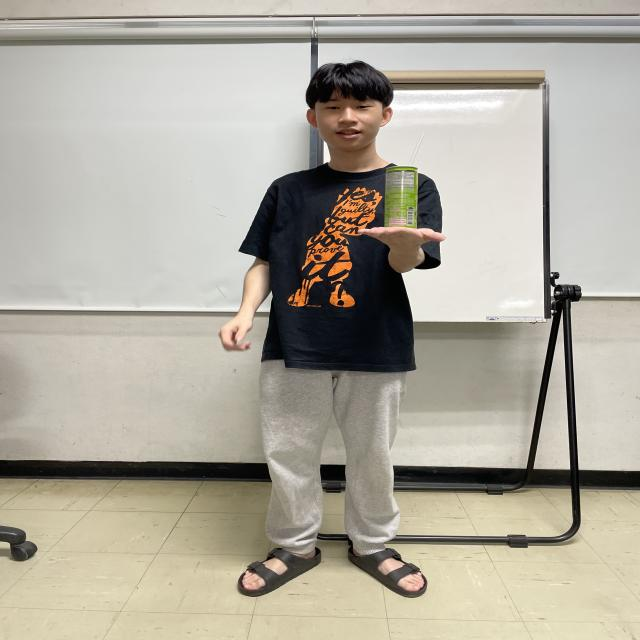can: (383, 165, 418, 228)
